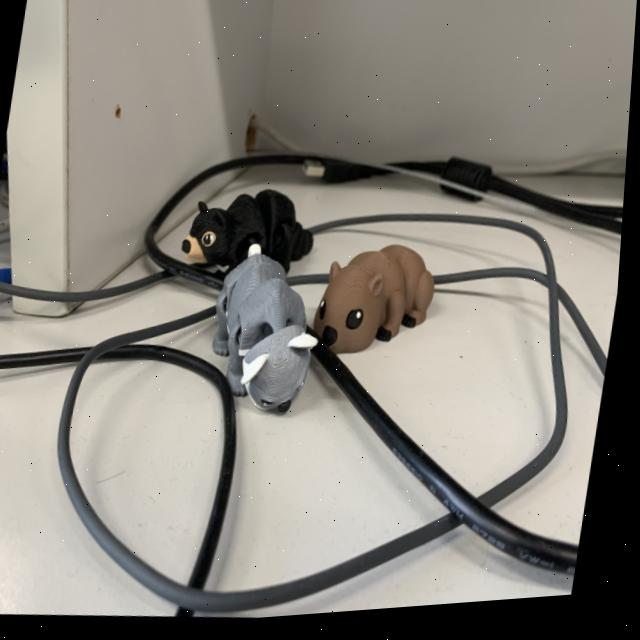koala: (195, 229, 332, 445)
tassie devil: (173, 168, 330, 293)
wombat: (301, 220, 452, 376)
